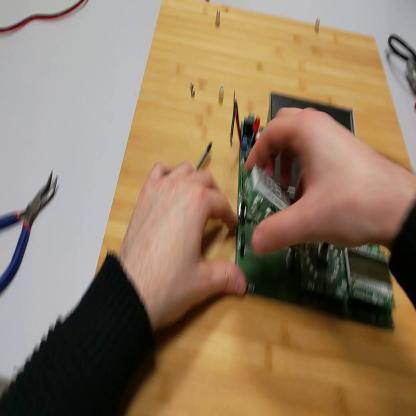hand: (241, 105, 394, 256), (122, 159, 245, 327)
low voltage board: (230, 87, 398, 326)
pliers: (1, 167, 57, 293), (408, 55, 416, 94)
screwdriver-: (196, 139, 212, 174)
working area: (98, 1, 416, 415)
